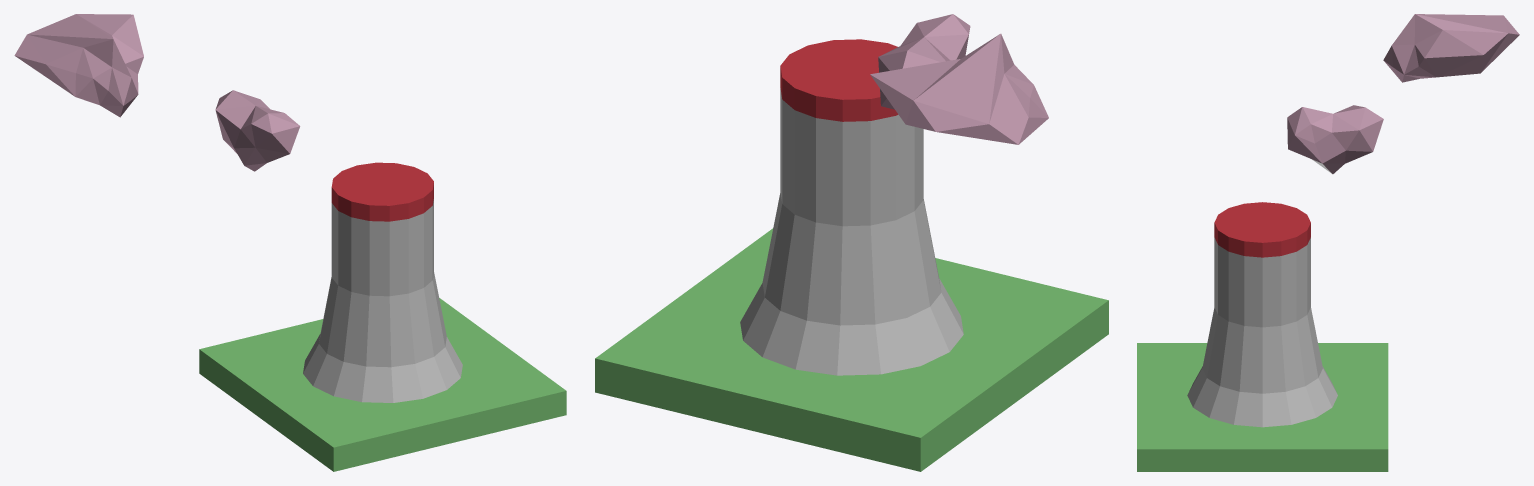
File: building_nuclearplant 1.fbx
3 views of the same model, side by side, from view 1: azimuth 30°, elevation 25°; view 2: azimuth 150°, elevation 25°; view 3: azimuth 270°, elevation 25° (orthographic). The views are drawn at different scales.
Visible parts, largest first — view 1: nuclear plant; view 2: nuclear plant; view 3: nuclear plant.
Part boxes in pixels (box(x1,y1,x2,y2)): nuclear plant: box(14, 14, 566, 471); nuclear plant: box(595, 14, 1108, 471); nuclear plant: box(1137, 14, 1519, 471).
Bounding box in the file's own units: 77.36 × 70.07 × 76.18.
